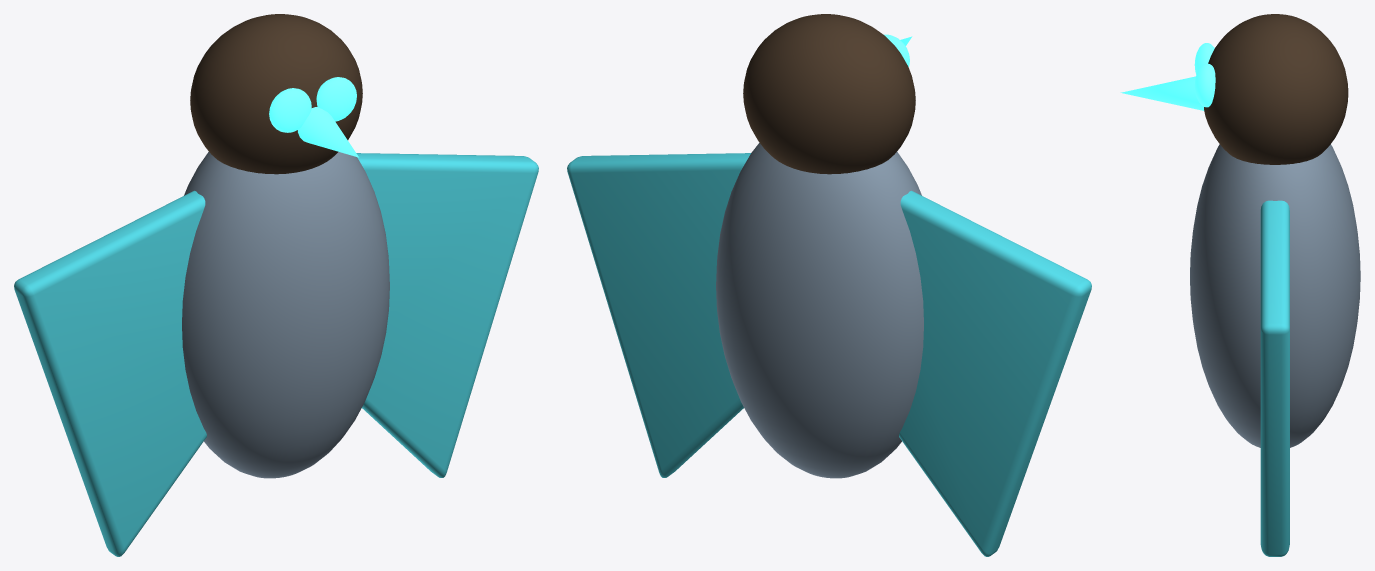
File: avian_v4.glb
The picture shows the model from 3 angles, left to right: view 1: azimuth 30°, elevation 25°; view 2: azimuth 150°, elevation 25°; view 3: azimuth 270°, elevation 25°; orthographic projection. The views are drawn at different scales.
Parts seen in each view (by area): view 1: RAVEN_BODY_PRIMARY, RAVEN_WING_ACCENT, RAVEN_WING_ACCENT.001, RAVEN_HEAD_SECONDARY, RAVEN_BEAK_EMISSIVE, EYE_EMISSIVE, EYE_EMISSIVE.001; view 2: RAVEN_BODY_PRIMARY, RAVEN_WING_ACCENT, RAVEN_WING_ACCENT.001, RAVEN_HEAD_SECONDARY; view 3: RAVEN_BODY_PRIMARY, RAVEN_HEAD_SECONDARY, RAVEN_WING_ACCENT.001, RAVEN_BEAK_EMISSIVE, EYE_EMISSIVE.001, EYE_EMISSIVE.
Part boxes in pixels (box(x1,y1,x2,y2)): RAVEN_BODY_PRIMARY: box(182, 151, 389, 478); RAVEN_WING_ACCENT: box(14, 190, 206, 556); RAVEN_WING_ACCENT.001: box(356, 153, 538, 477); RAVEN_HEAD_SECONDARY: box(190, 14, 362, 174); RAVEN_BEAK_EMISSIVE: box(298, 107, 358, 157); EYE_EMISSIVE: box(269, 88, 311, 132); EYE_EMISSIVE.001: box(316, 77, 356, 121); RAVEN_BODY_PRIMARY: box(716, 143, 923, 478); RAVEN_WING_ACCENT: box(899, 190, 1091, 556); RAVEN_WING_ACCENT.001: box(567, 153, 750, 477); RAVEN_HEAD_SECONDARY: box(743, 14, 915, 174); RAVEN_BODY_PRIMARY: box(1190, 144, 1360, 447); RAVEN_HEAD_SECONDARY: box(1204, 14, 1348, 164); RAVEN_WING_ACCENT.001: box(1260, 200, 1289, 556); RAVEN_BEAK_EMISSIVE: box(1120, 76, 1204, 110); EYE_EMISSIVE.001: box(1194, 63, 1215, 107); EYE_EMISSIVE: box(1194, 43, 1214, 74).
Bounding box in the file's own units: 2.28 × 2.08 × 0.985.
